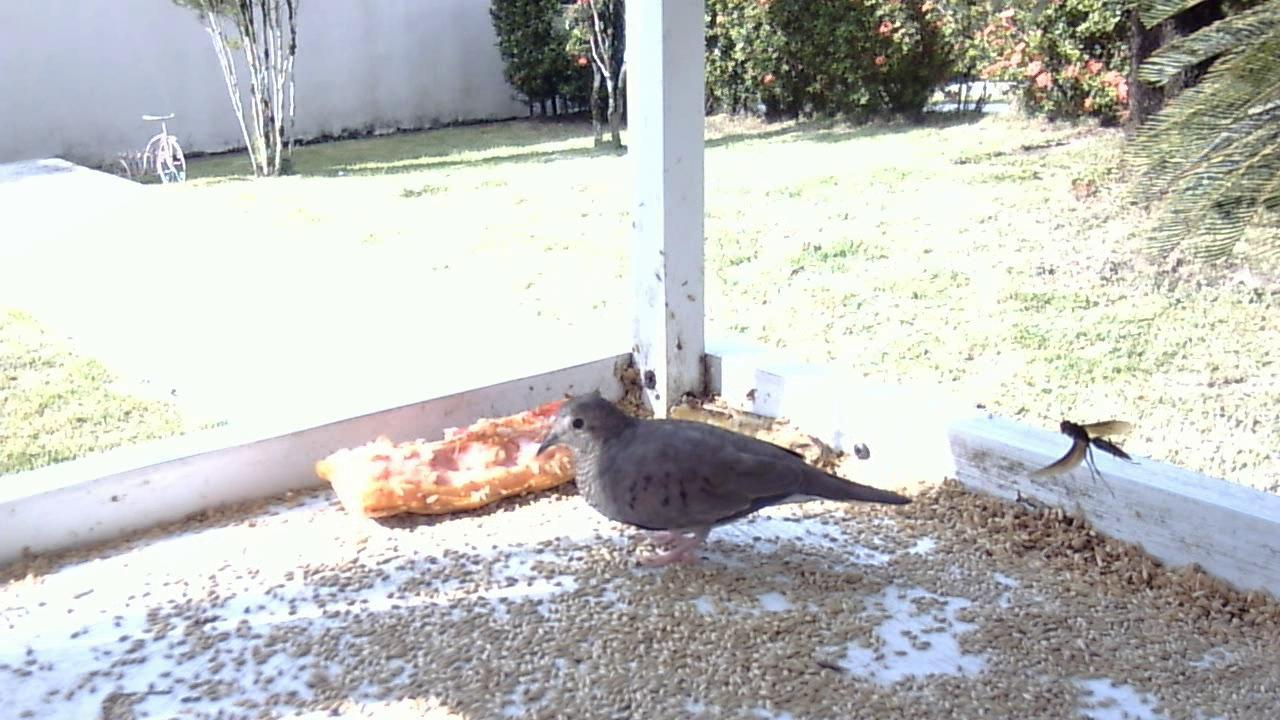rolinha: (537, 379, 919, 581)
